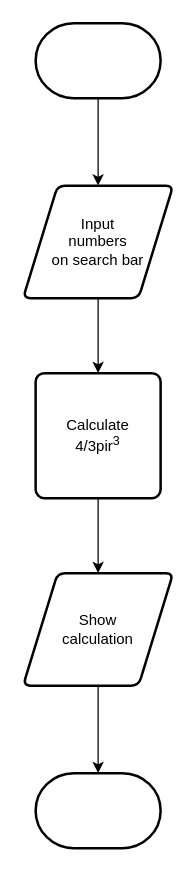
Some shapes in this 195 by 870 pixel diagram are drawn without their labels. Each missing label, with the centre of its shape:
Start: (x=97, y=60)
Stop: (x=97, y=810)
